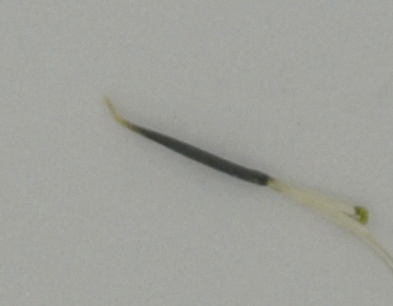เมล็ดดีเรียวยาว: (104, 94, 391, 267)
